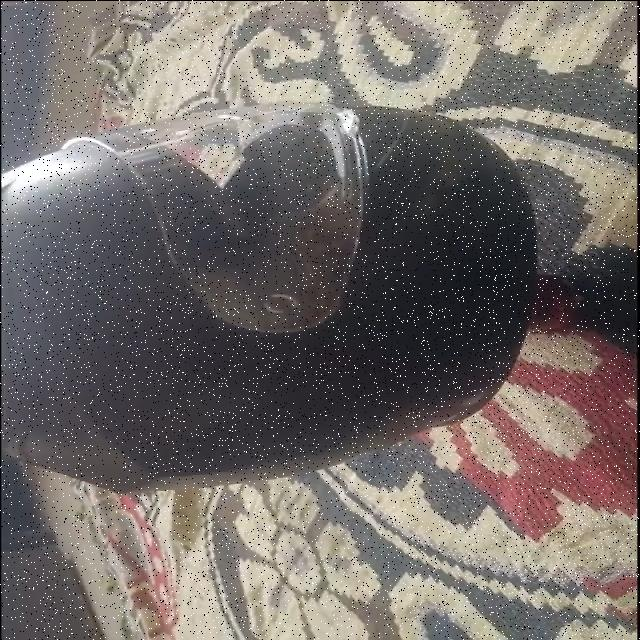Helmet: (3, 99, 561, 496)
